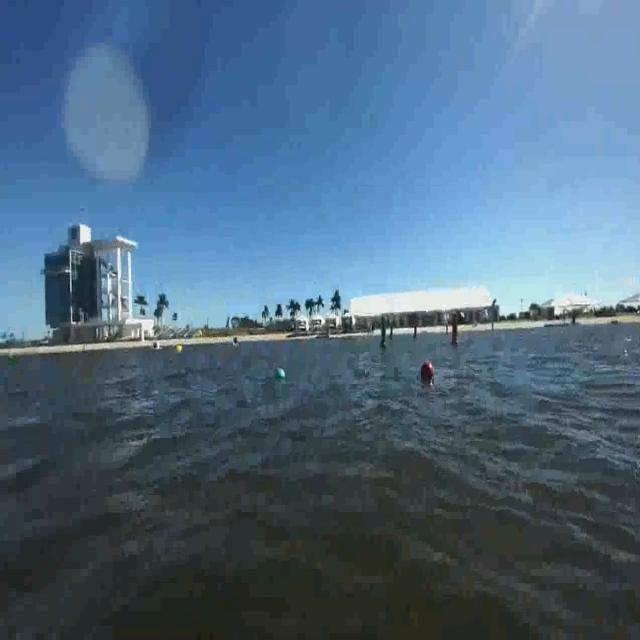green-buoy: (278, 368, 285, 379)
red-buoy: (422, 362, 434, 378)
yellow-buoy: (176, 343, 183, 356)
